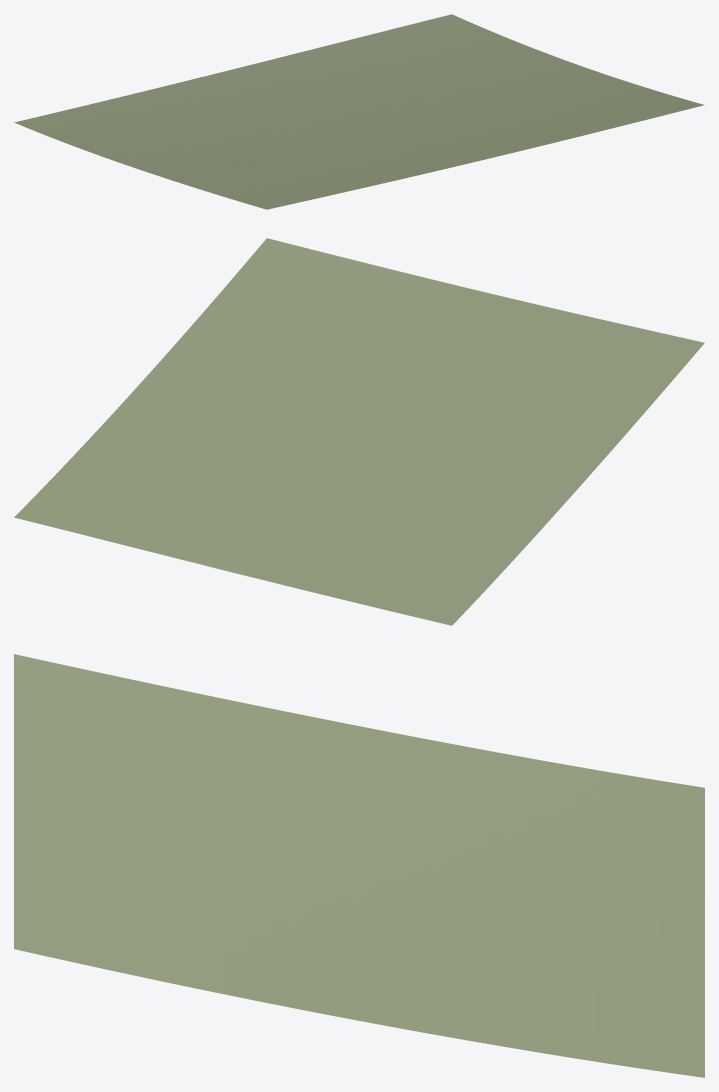
File: expanse-30-4.glb
3 views of the same model, one above another, from view 1: azimuth 30°, elevation 25°; view 2: azimuth 150°, elevation 25°; view 3: azimuth 270°, elevation 25° (orthographic). The views are drawn at different scales.
Visible parts, largest first — view 1: expanse-30-4; view 2: expanse-30-4; view 3: expanse-30-4.
Boxes of the visible parts, x1,y1,x2,y2 form: expanse-30-4: [14, 14, 704, 209]; expanse-30-4: [14, 238, 704, 625]; expanse-30-4: [14, 654, 704, 1077].
Size of the model in its own units: 256 by 54.97 by 256.
